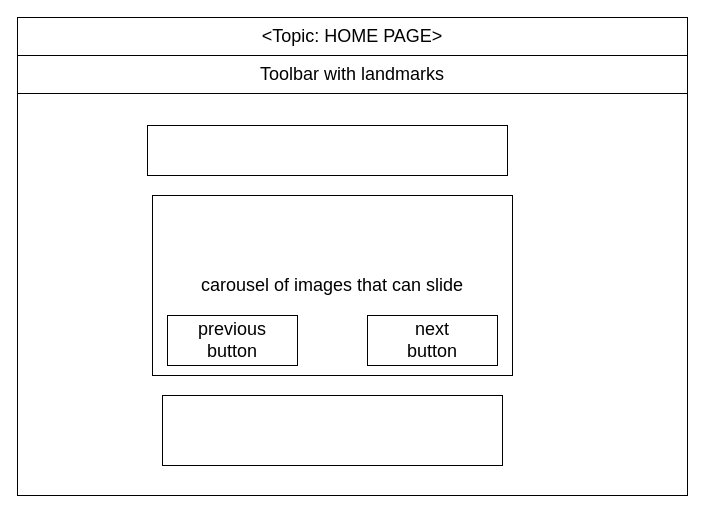
This 705x513 diagram has some shape labels left out. Each missing label, with the centre of its shape:
"General description of the festival" belongs at pixel 332 430.
"Orientation info" belongs at pixel 327 150.
